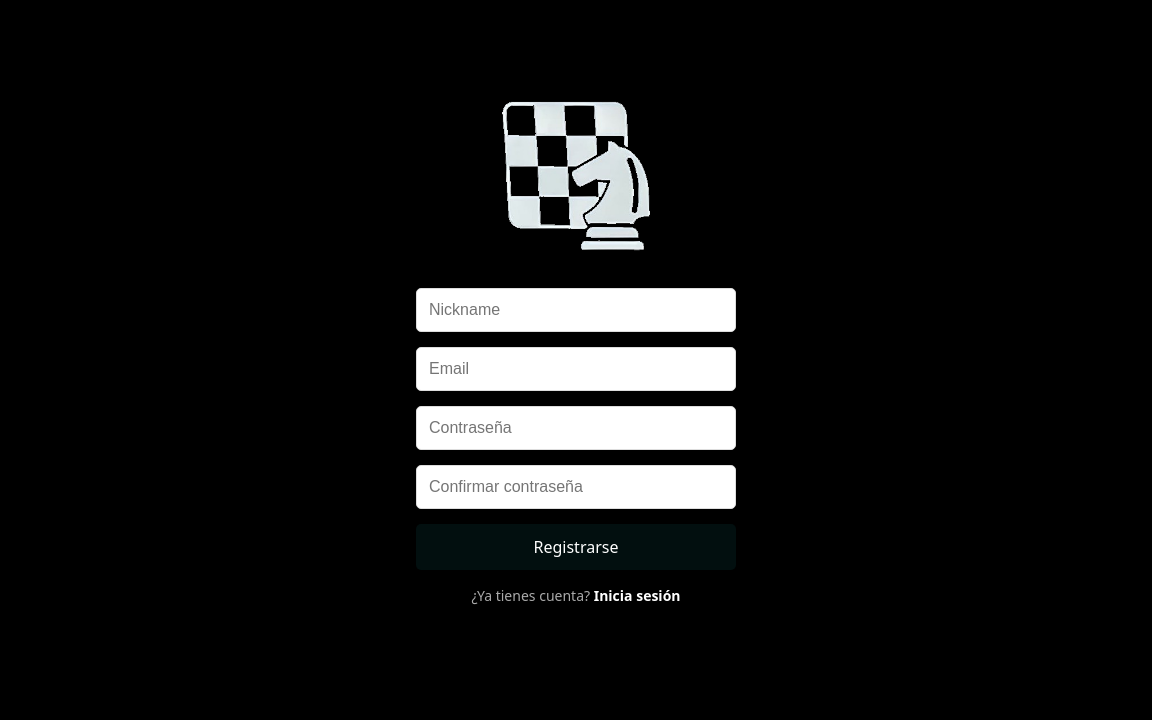
Test: register_shows_error_if_password_too_short
The image size is (1152, 720).
Type "nick" into the field with placeholder "Nickname".
click(576, 310); type("nick")  # box top-left (416, 288), bottom-right (736, 332)
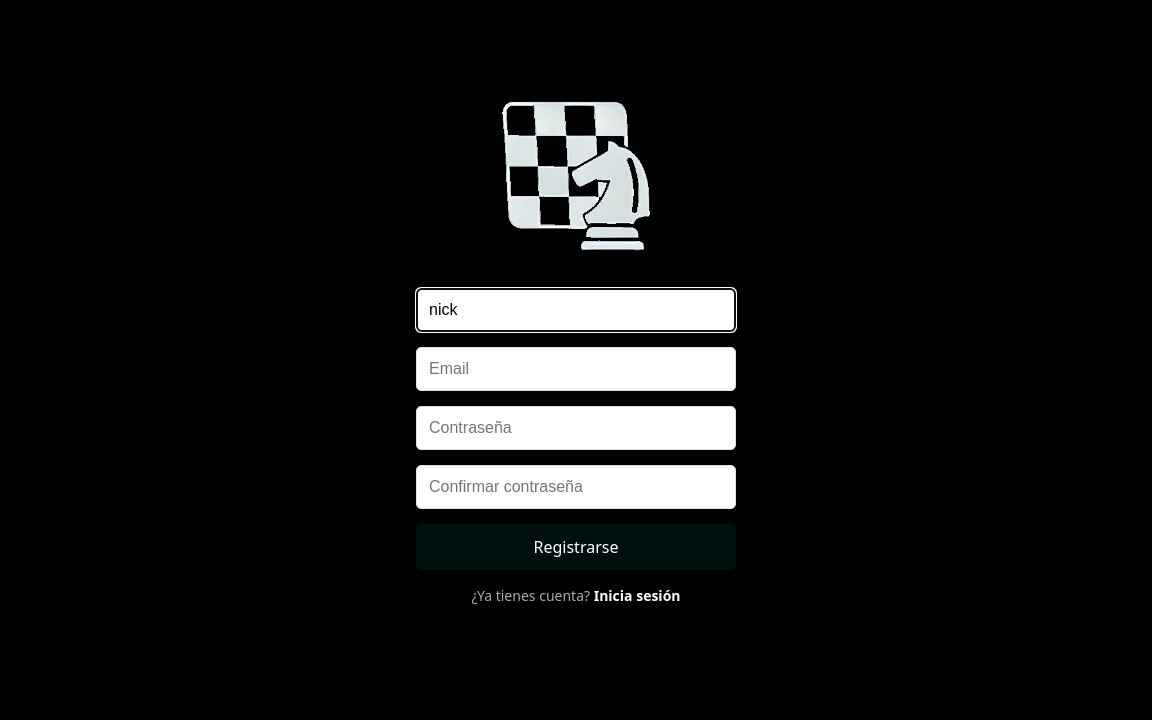
Type "i@i.com" into the field with placeholder "Email".
click(576, 369); type("i@i.com")  # box top-left (416, 347), bottom-right (736, 391)
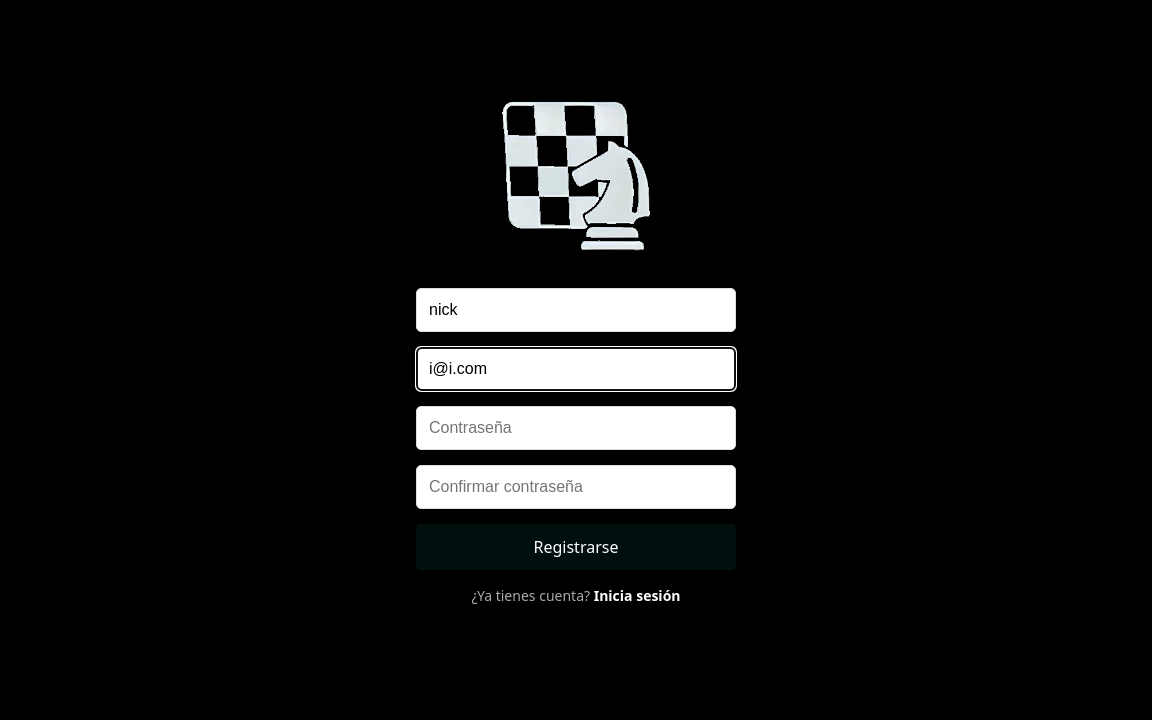
Type "abc" into the password field with placeholder "Contraseña".
click(576, 428); type("abc")  # box top-left (416, 406), bottom-right (736, 450)
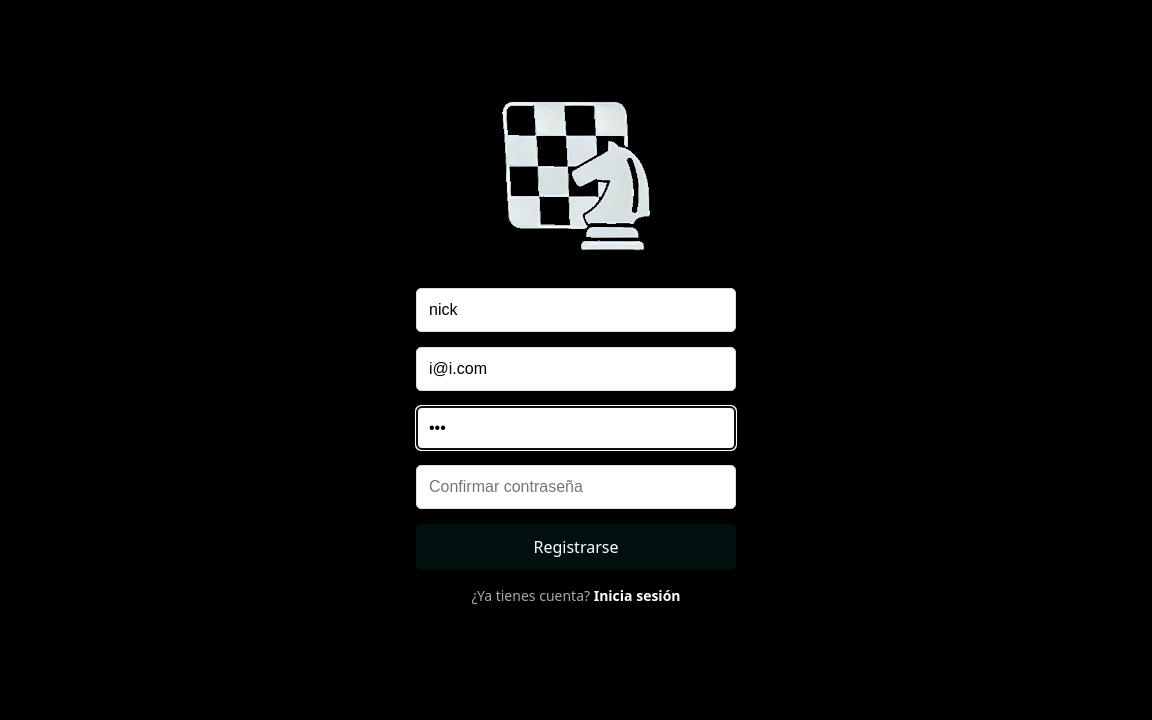
Type "abc" into the password field with placeholder "Confirmar contraseña".
click(576, 487); type("abc")  # box top-left (416, 465), bottom-right (736, 509)
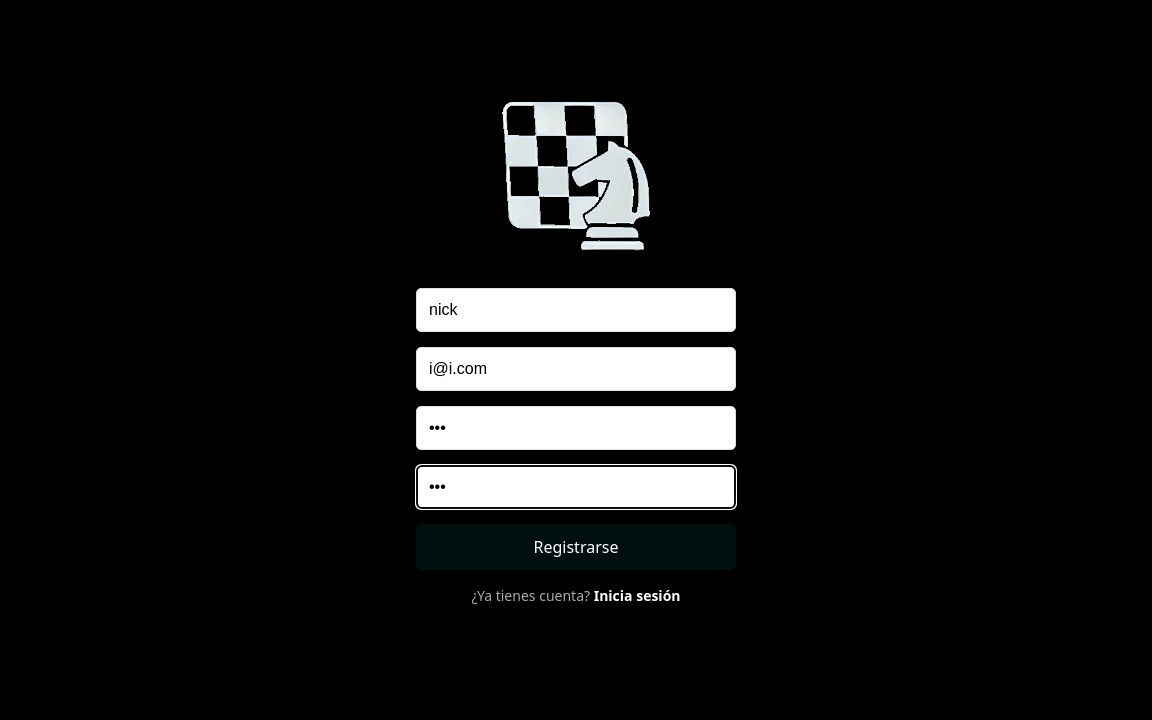
Click the button "Registrarse".
click(576, 547)  # box top-left (416, 524), bottom-right (736, 570)
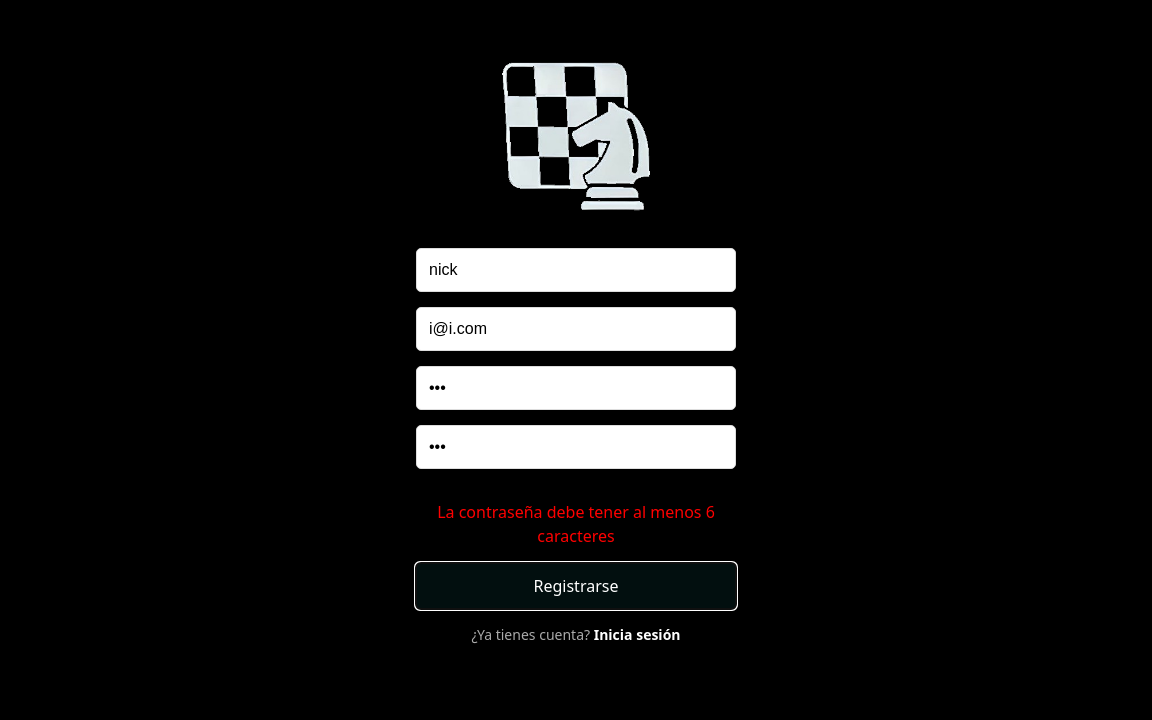
Expected: the text "La contraseña debe tener al menos 6 caracteres" is shown, top-left (416, 500), bottom-right (736, 548)
